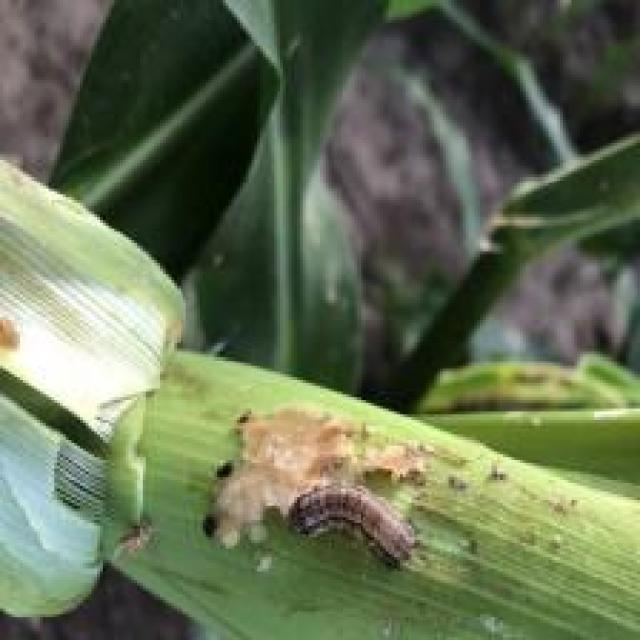Plaga: (277, 460, 445, 591)
